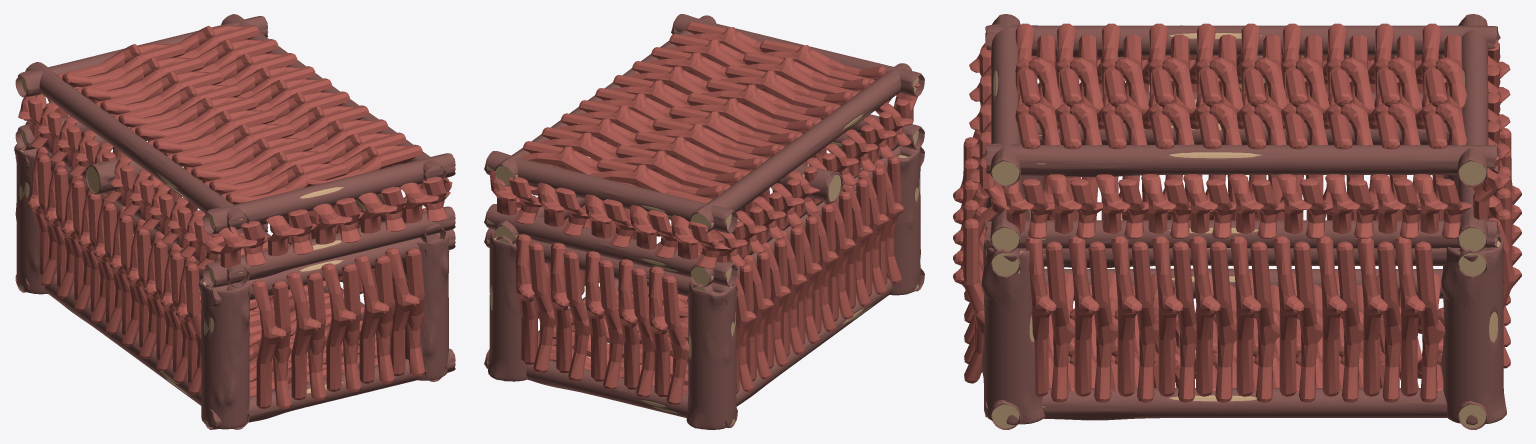
File: chest.fbx
The picture shows the model from 3 angles, left to right: view 1: azimuth 30°, elevation 25°; view 2: azimuth 150°, elevation 25°; view 3: azimuth 270°, elevation 25°; orthographic projection. The views are drawn at different scales.
Parts seen in each view (by area): view 1: Cylinder.015, sennit.016; view 2: Cylinder.015, sennit.016; view 3: Cylinder.015, sennit.016.
Boxes of the visible parts, <box> form: Cylinder.015: <box>15,14,455,287</box>; sennit.016: <box>14,127,455,429</box>; Cylinder.015: <box>484,14,924,287</box>; sennit.016: <box>484,132,924,429</box>; Cylinder.015: <box>969,14,1510,253</box>; sennit.016: <box>953,114,1521,429</box>.
Bounding box in the file's own units: 253 × 214 × 377.
